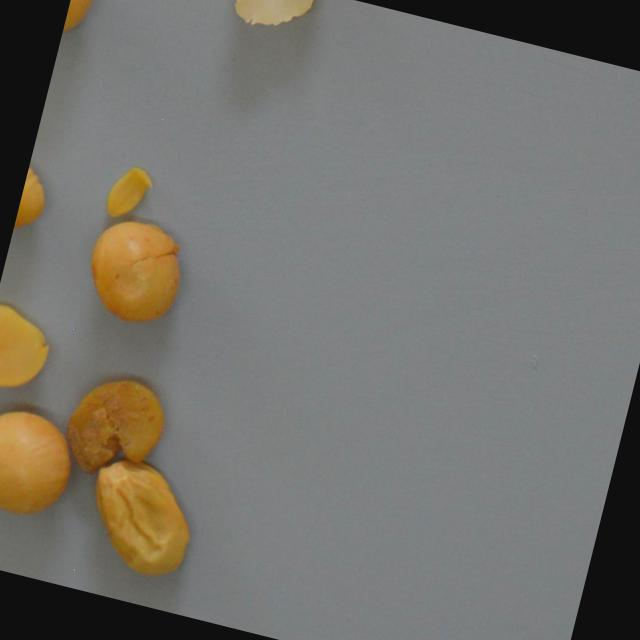cuerpos_extranos: (71, 451, 207, 589), (70, 206, 197, 336), (55, 363, 181, 490), (0, 403, 81, 528), (0, 292, 64, 406), (219, 0, 324, 43), (100, 160, 156, 226), (13, 155, 57, 235), (60, 0, 93, 44)
